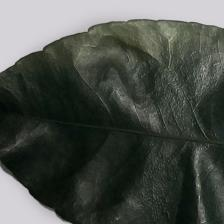healthy: (11, 35, 224, 224)
